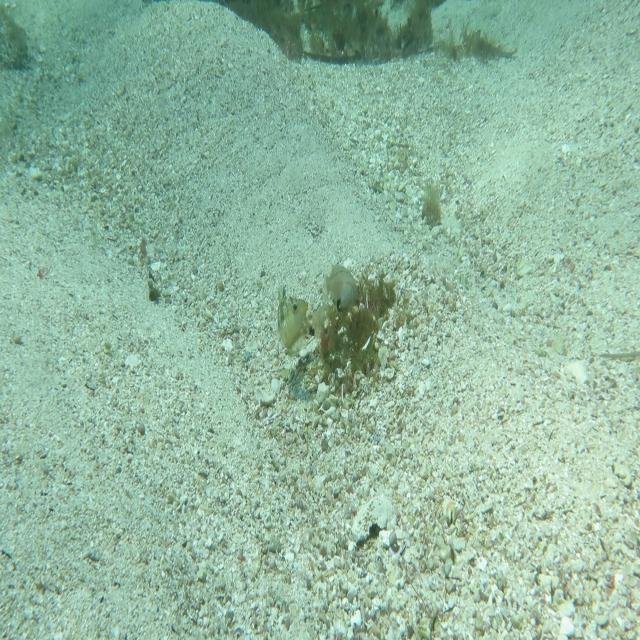DAN_CIRC: (275, 280, 327, 358)
female: (319, 255, 365, 314)
nest: (303, 264, 399, 401)
vegetation: (235, 0, 454, 65), (416, 183, 444, 236)
